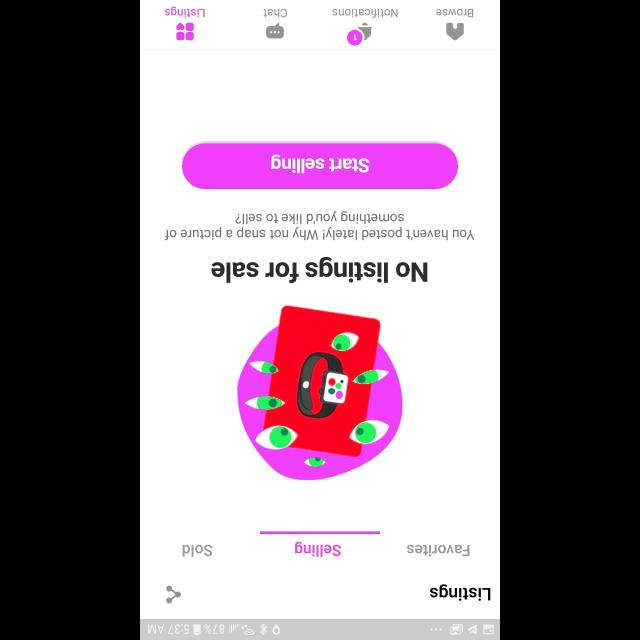icon: (347, 22, 373, 46), (176, 22, 194, 42), (446, 23, 464, 41), (266, 22, 284, 38), (166, 584, 180, 604)
image: (238, 304, 402, 480)
text: (164, 211, 474, 241), (211, 256, 427, 284), (430, 584, 490, 600), (294, 541, 342, 557), (406, 544, 469, 556), (332, 9, 398, 19), (164, 6, 206, 18), (182, 544, 214, 556), (435, 8, 473, 18), (263, 9, 287, 19)
textbutton: (182, 143, 458, 189)
uppertaskbar: (140, 618, 500, 640)
